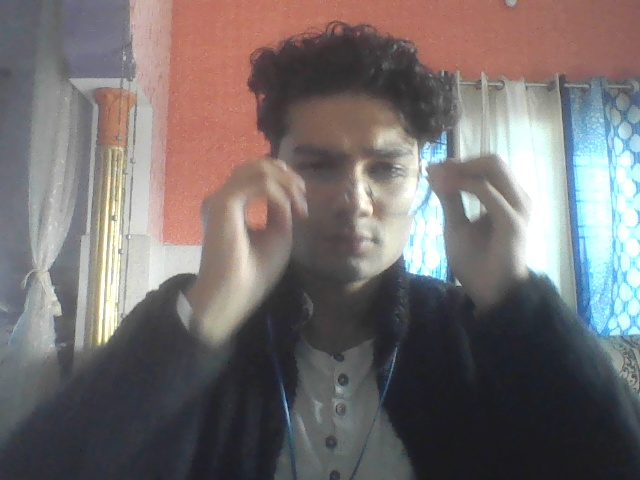real: (252, 26, 444, 298)
